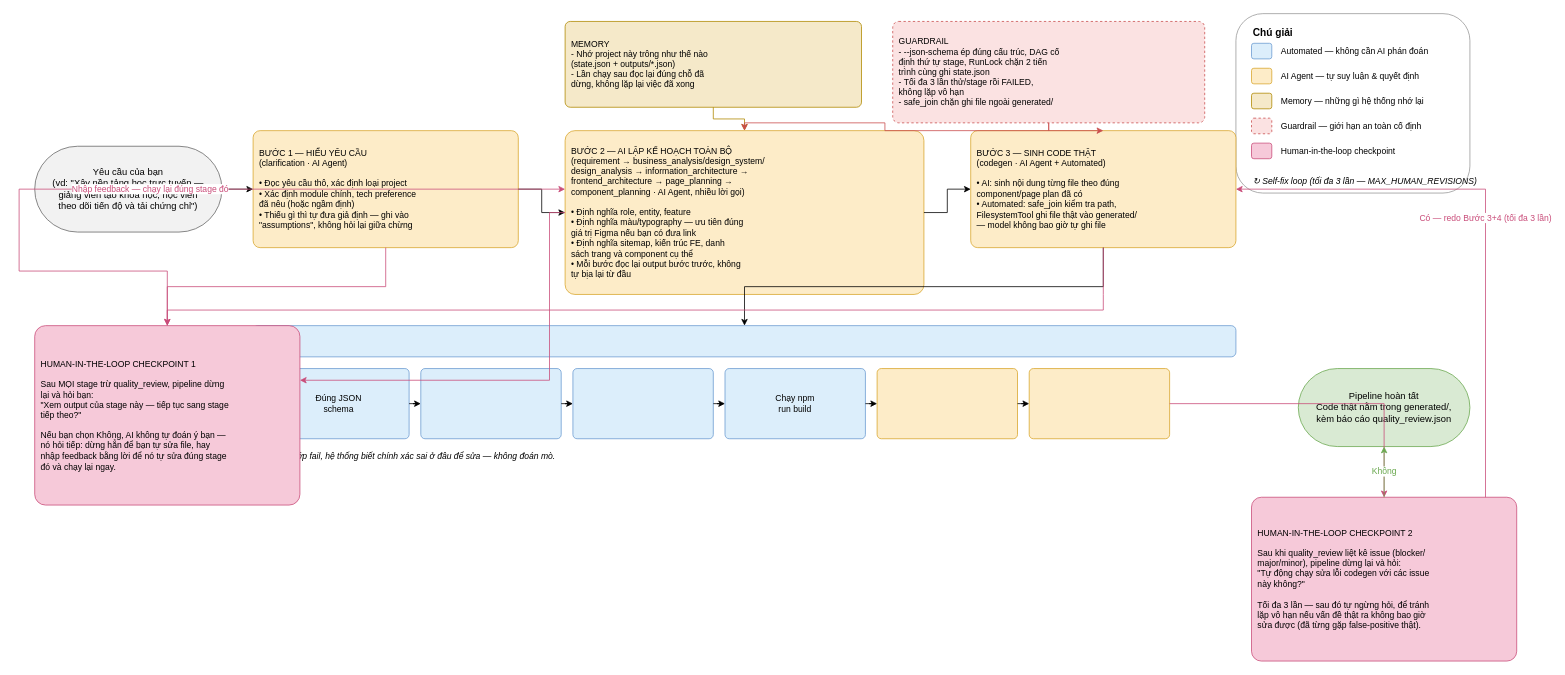
The diagram is 1565 pixels wide and 675 high, and some of its shapes have lost their labels. The centre of each missing label's shape, as x and y in pixels:
BƯỚC 4 — TỰ KIỂM TRA NHIỀU LỚP TRƯỚC KHI GIAO: (x=744, y=341)
Chạy eslint: (x=642, y=403)
Chạy tsc (type check): (x=490, y=403)
preview: so khớp với page/component plan (AI Agent): (x=947, y=403)
quality_review: chấm điểm, liệt kê issue (AI Agent): (x=1099, y=403)
